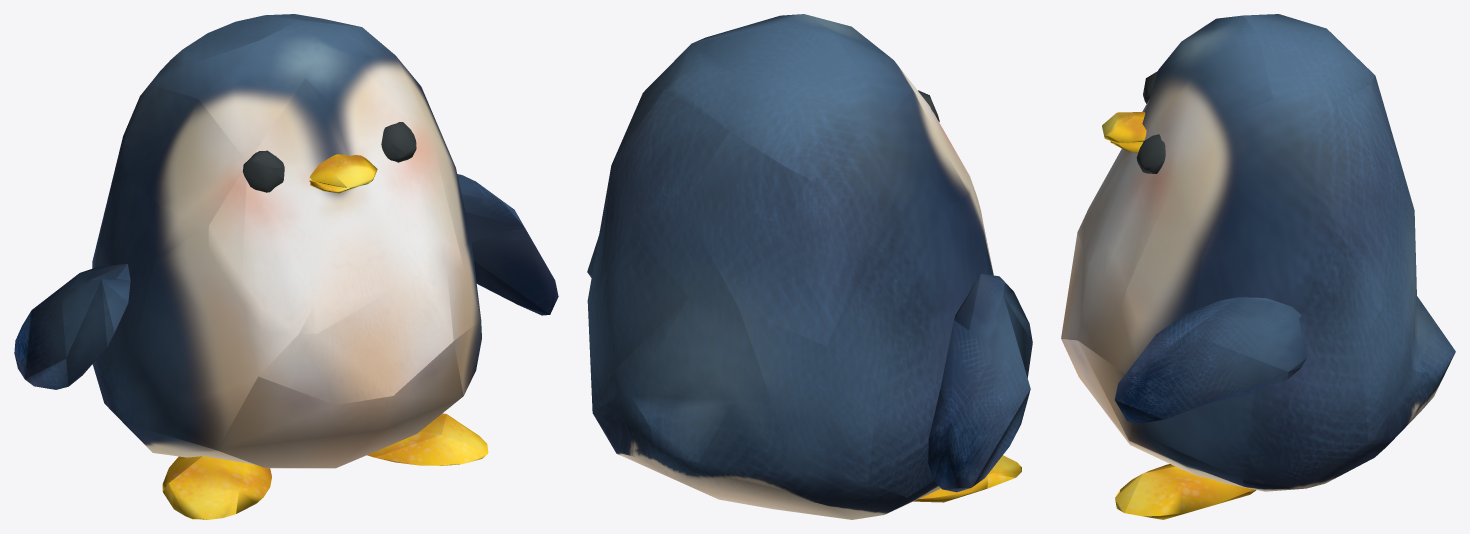
File: P_NPC.obj
3 views of the same model, side by side, from view 1: azimuth 30°, elevation 25°; view 2: azimuth 150°, elevation 25°; view 3: azimuth 270°, elevation 25° (orthographic). The views are drawn at different scales.
Visible parts, largest first — view 1: P_NPC:Mesh, P_NPC:MeshpolySurface30, P_NPC:MeshpolySurface31, P_NPC:MeshpolySurface37, P_NPC:MeshpolySurface36, P_NPC:MeshpolySurface35, P_NPC:MeshpolySurface33, P_NPC:MeshpolySurface32; view 2: P_NPC:Mesh, P_NPC:MeshpolySurface30, P_NPC:MeshpolySurface37; view 3: P_NPC:Mesh, P_NPC:MeshpolySurface31, P_NPC:MeshpolySurface36, P_NPC:MeshpolySurface35, P_NPC:MeshpolySurface32.
Boxes of the visible parts, box(x1,y1,x2,y2) form: P_NPC:Mesh: box(92, 14, 481, 468); P_NPC:MeshpolySurface30: box(14, 263, 130, 389); P_NPC:MeshpolySurface31: box(457, 174, 558, 315); P_NPC:MeshpolySurface37: box(162, 456, 271, 519); P_NPC:MeshpolySurface36: box(367, 413, 488, 465); P_NPC:MeshpolySurface35: box(309, 154, 377, 187); P_NPC:MeshpolySurface33: box(242, 150, 284, 192); P_NPC:MeshpolySurface32: box(381, 122, 416, 162); P_NPC:Mesh: box(587, 14, 993, 519); P_NPC:MeshpolySurface30: box(928, 274, 1032, 492); P_NPC:MeshpolySurface37: box(913, 455, 1021, 502); P_NPC:Mesh: box(1061, 14, 1455, 491); P_NPC:MeshpolySurface31: box(1114, 297, 1306, 423); P_NPC:MeshpolySurface36: box(1115, 464, 1256, 519); P_NPC:MeshpolySurface35: box(1102, 112, 1146, 142); P_NPC:MeshpolySurface32: box(1136, 134, 1165, 173).
Size of the model in its own units: 1.29 by 1.25 by 1.04.
Materials: 7 (7 with a texture image).
